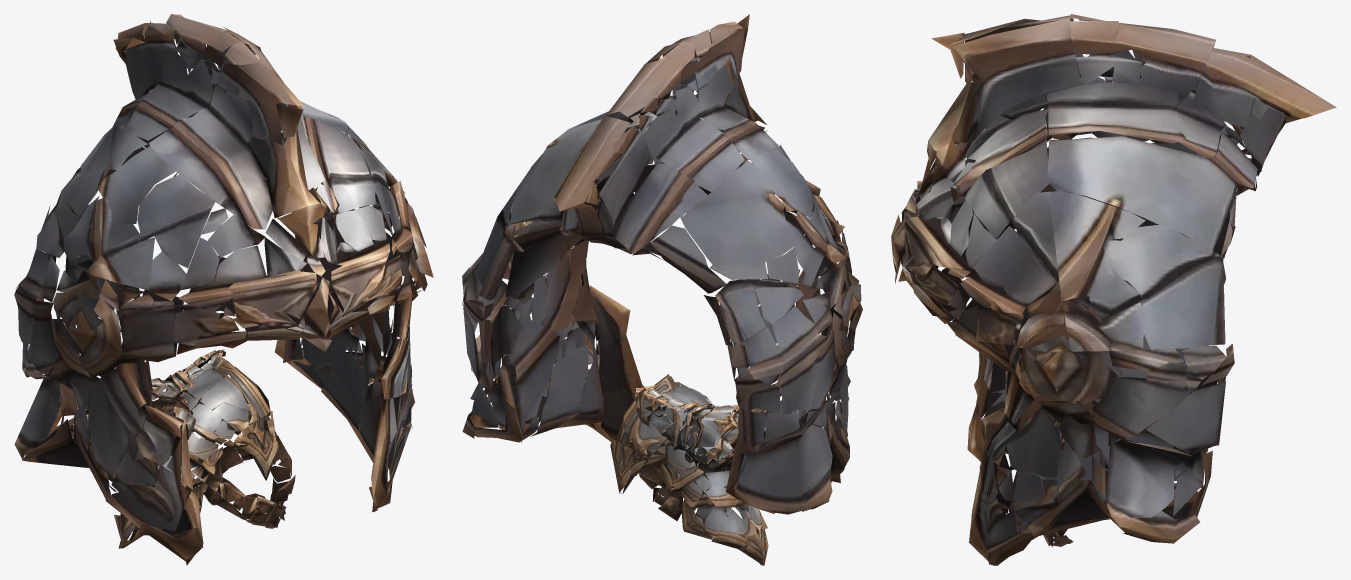
Rendered from parts_e.glb.
The picture shows the model from 3 angles, left to right: view 1: azimuth 30°, elevation 25°; view 2: azimuth 150°, elevation 25°; view 3: azimuth 270°, elevation 25°; orthographic projection. The views are drawn at different scales.
Parts seen in each view (by area): view 1: helm, pauldron, gauntlet; view 2: helm, pauldron, gauntlet; view 3: helm.
Boxes of the visible parts, x1,y1,x2,y2 form: helm: (14,14,433,565); pauldron: (114,357,295,548); gauntlet: (70,349,251,459); helm: (462,14,862,514); pauldron: (610,374,768,565); gauntlet: (632,385,766,472); helm: (891,14,1336,565).
Size of the model in its own units: 0.7081 by 0.9236 by 0.7045.
1 material, 1 textured.
